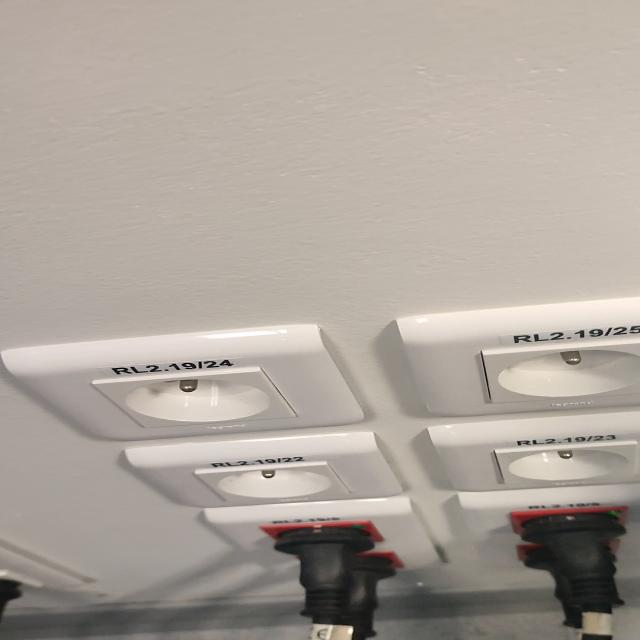house plug: (92, 366, 301, 429), (479, 338, 640, 404), (493, 440, 636, 486), (197, 461, 351, 501)
